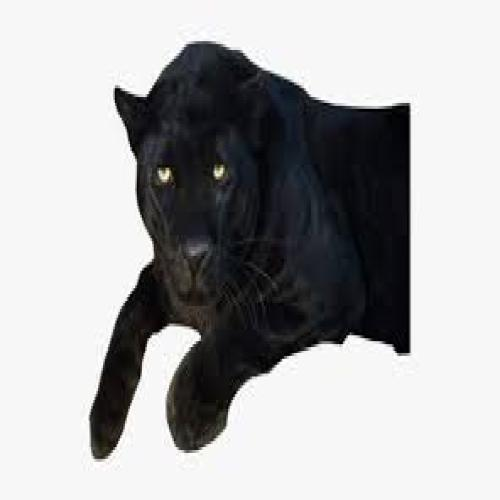panther-endangered: (89, 48, 415, 443)
